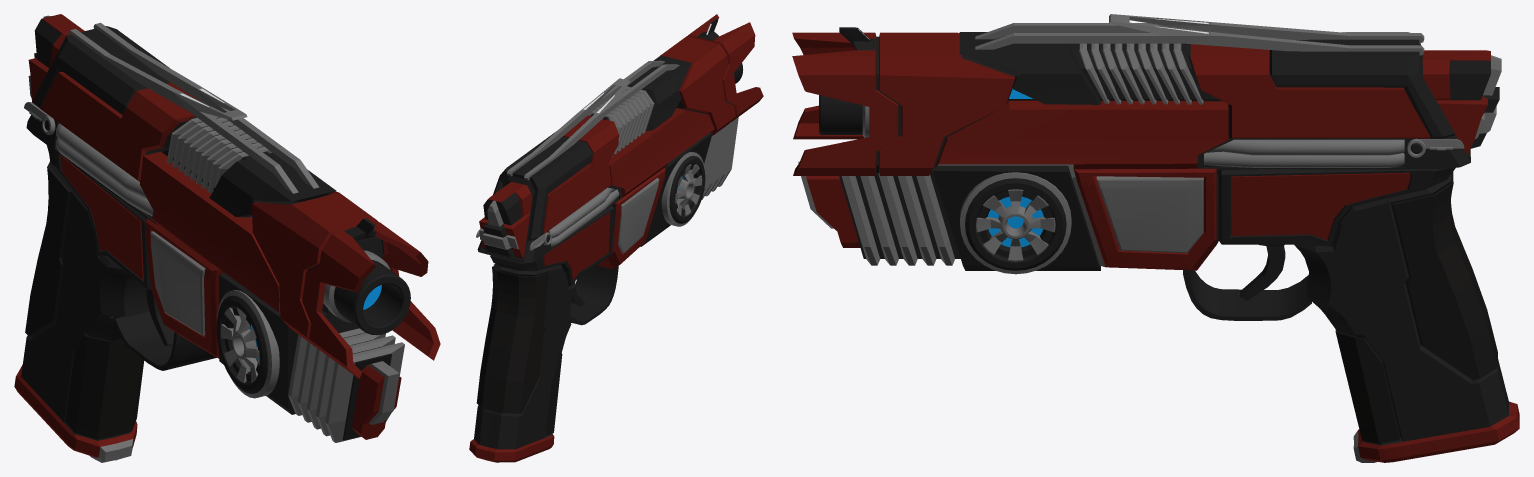
Rendered from Pulse Pistol.fbx.
The picture shows the model from 3 angles, left to right: view 1: azimuth 30°, elevation 25°; view 2: azimuth 150°, elevation 25°; view 3: azimuth 270°, elevation 25°; orthographic projection. The views are drawn at different scales.
Parts seen in each view (by area): view 1: Cube, Cylinder.002, Cube.003, Cylinder.001; view 2: Cube, Cube.003; view 3: Cube, Cube.003, Cylinder.002, Cylinder.001.
Part boxes in pixels (x1,y1,x2,y2): Cube: [14, 22, 440, 462]; Cylinder.002: [323, 250, 410, 335]; Cube.003: [28, 14, 84, 104]; Cylinder.001: [146, 289, 174, 345]; Cube: [469, 14, 763, 462]; Cube.003: [479, 181, 532, 258]; Cube: [792, 14, 1519, 462]; Cube.003: [1422, 50, 1501, 154]; Cylinder.002: [819, 95, 869, 137]; Cylinder.001: [1240, 244, 1285, 300].
Size of the model in its own units: 33.01 by 144 by 217.
